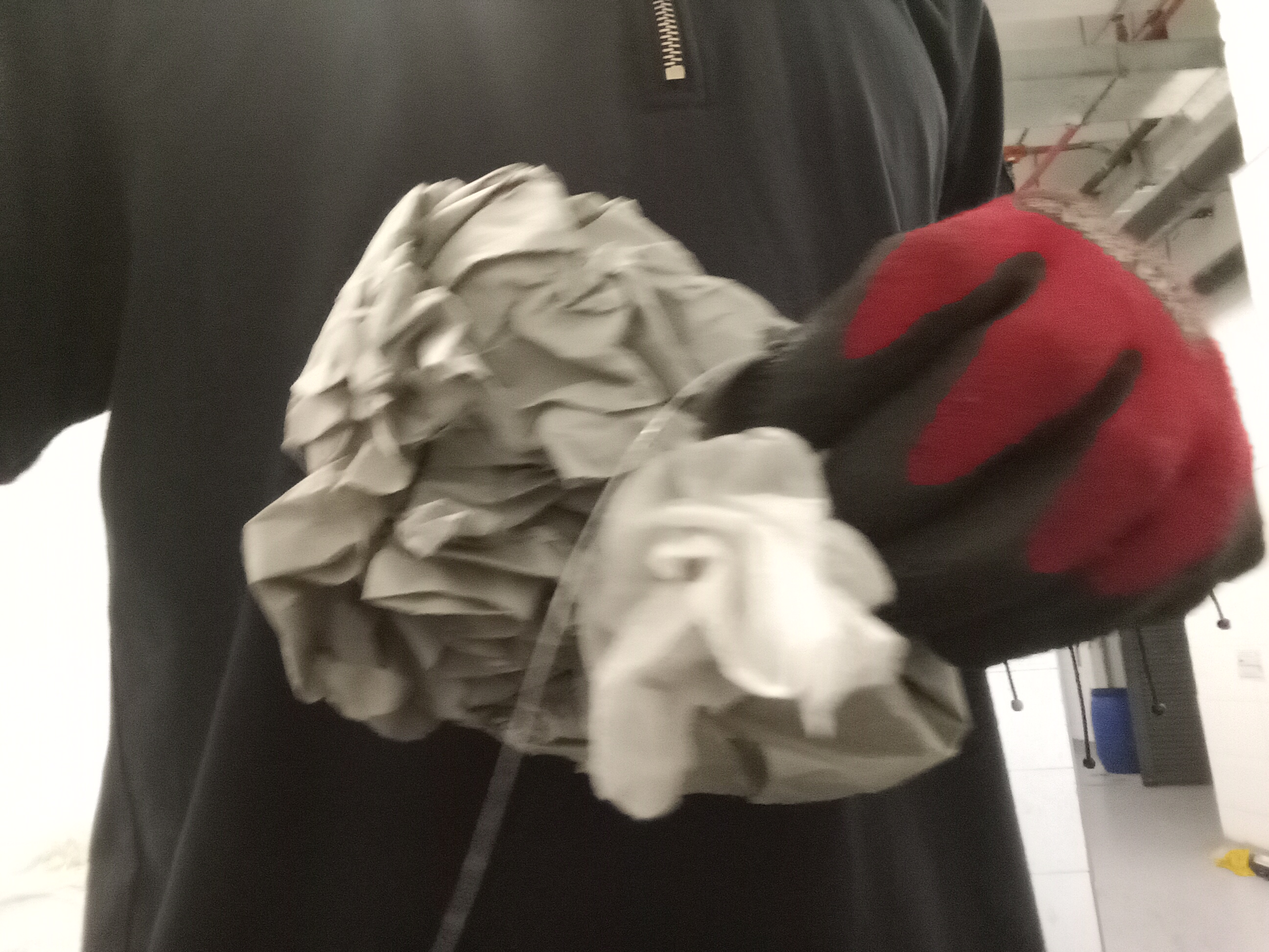Ordinario: (243, 159, 973, 825)
